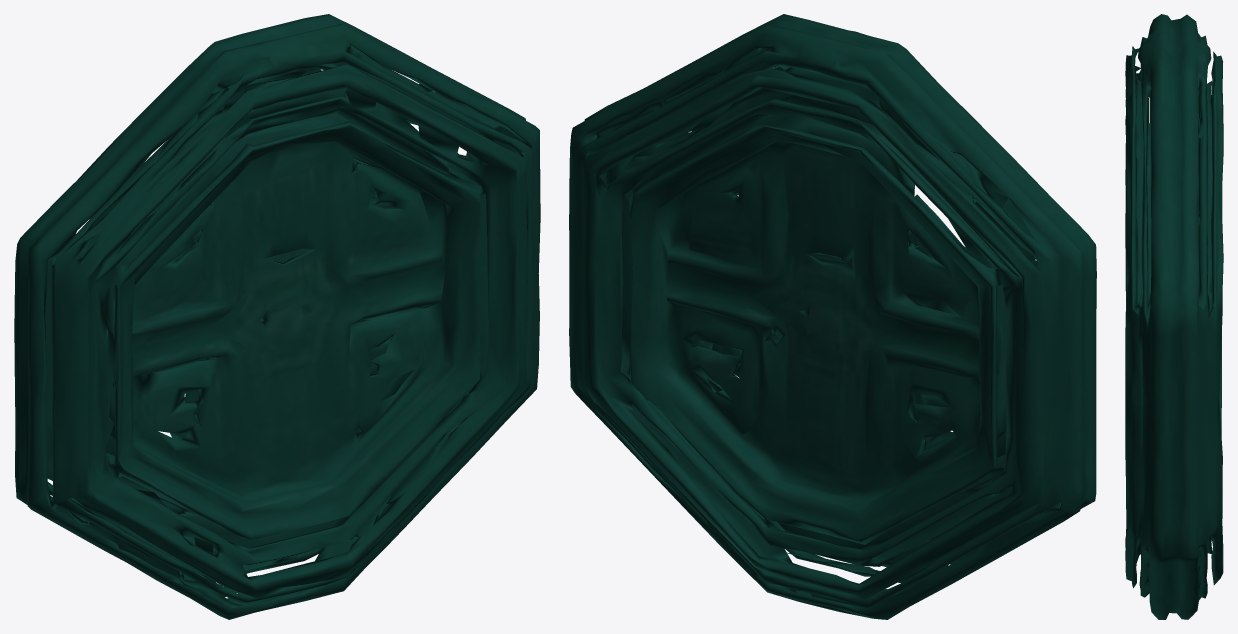
Rendered from fs_capacitor_rune.glb.
The picture shows the model from 3 angles, left to right: view 1: azimuth 30°, elevation 25°; view 2: azimuth 150°, elevation 25°; view 3: azimuth 270°, elevation 25°; orthographic projection. The views are drawn at different scales.
Parts seen in each view (by area): view 1: geometry_0; view 2: geometry_0; view 3: geometry_0.
Part boxes in pixels (box(x1,y1,x2,y2)): geometry_0: box(14, 14, 540, 619); geometry_0: box(569, 14, 1096, 619); geometry_0: box(1125, 14, 1223, 619).
Bounding box in the file's own units: 0.9405 × 1 × 0.162.
1 material, 1 textured.
